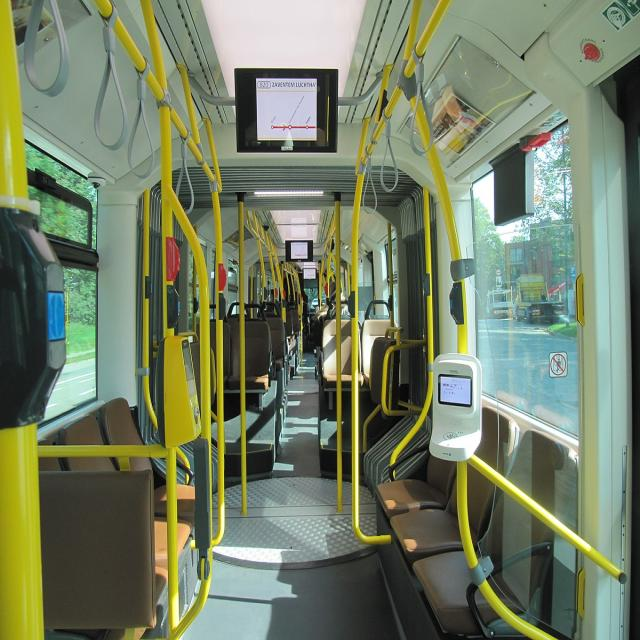empty-seat-frontal: (222, 303, 272, 394), (320, 300, 364, 390)
